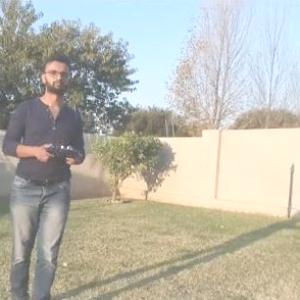follow: (0, 48, 87, 299)
